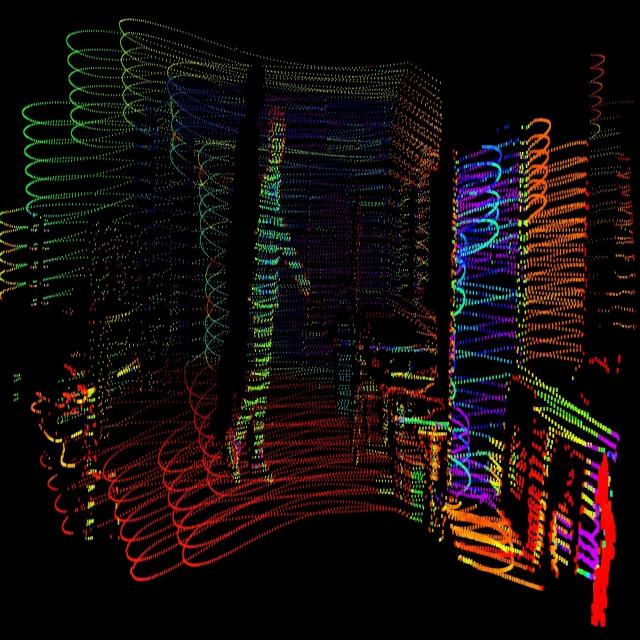human: (228, 106, 312, 495)
